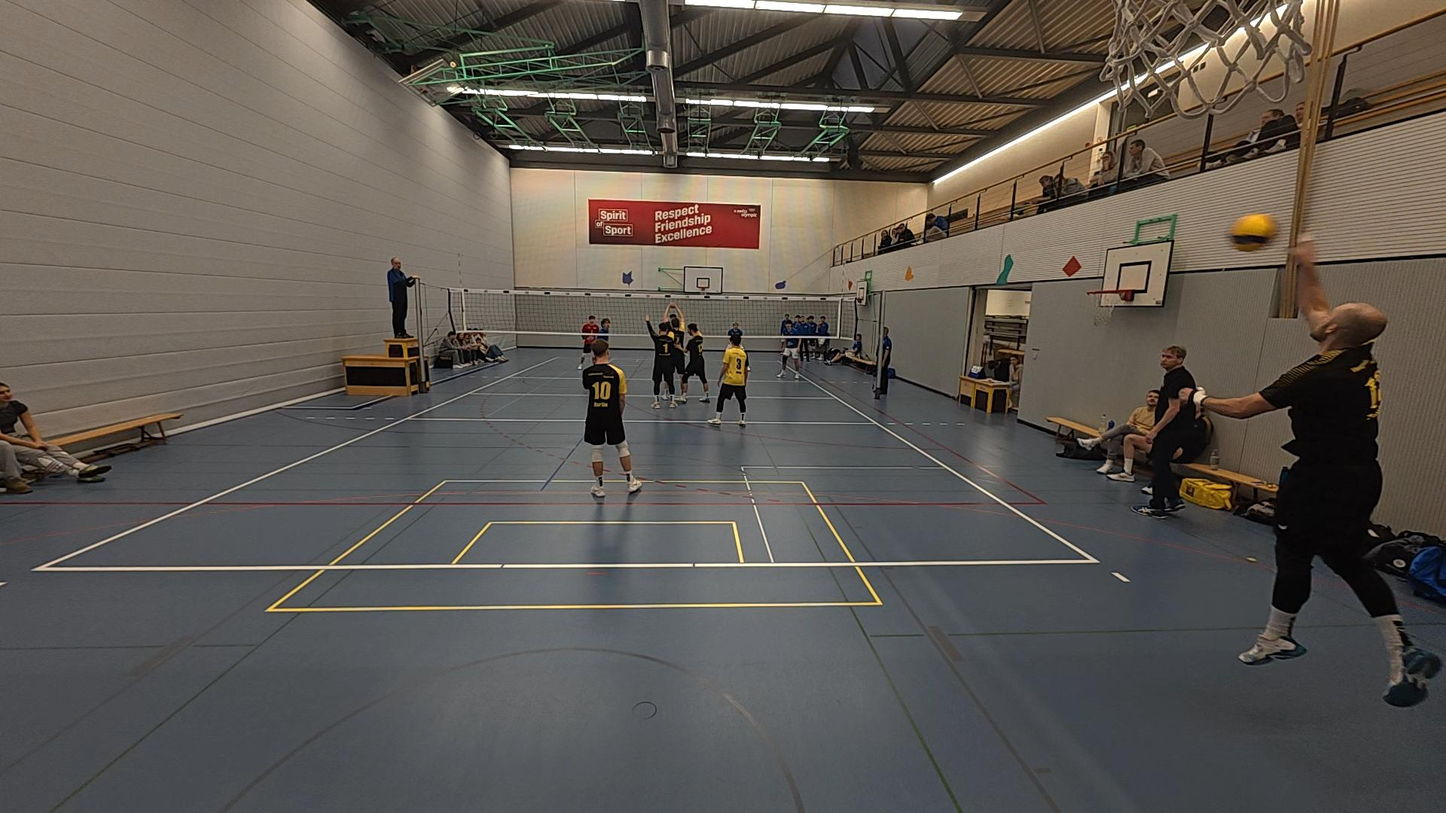battuta: (1185, 230, 1441, 709)
